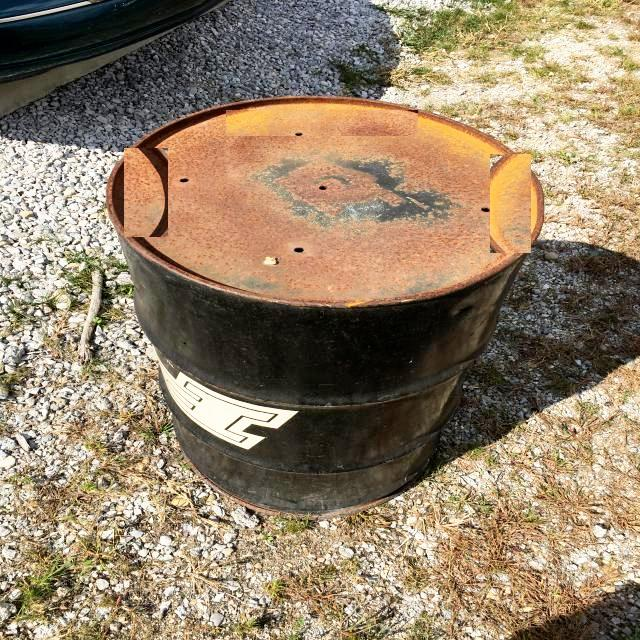Corrosion: (290, 219, 466, 302), (173, 137, 260, 286), (409, 113, 505, 220), (159, 115, 241, 230), (338, 113, 447, 190), (207, 114, 305, 190), (226, 98, 419, 136), (295, 162, 383, 218), (165, 114, 234, 178), (491, 154, 533, 254), (123, 147, 167, 238), (123, 148, 165, 237), (226, 103, 298, 136), (254, 195, 296, 244), (510, 207, 523, 252), (510, 154, 522, 160), (512, 186, 515, 206)
